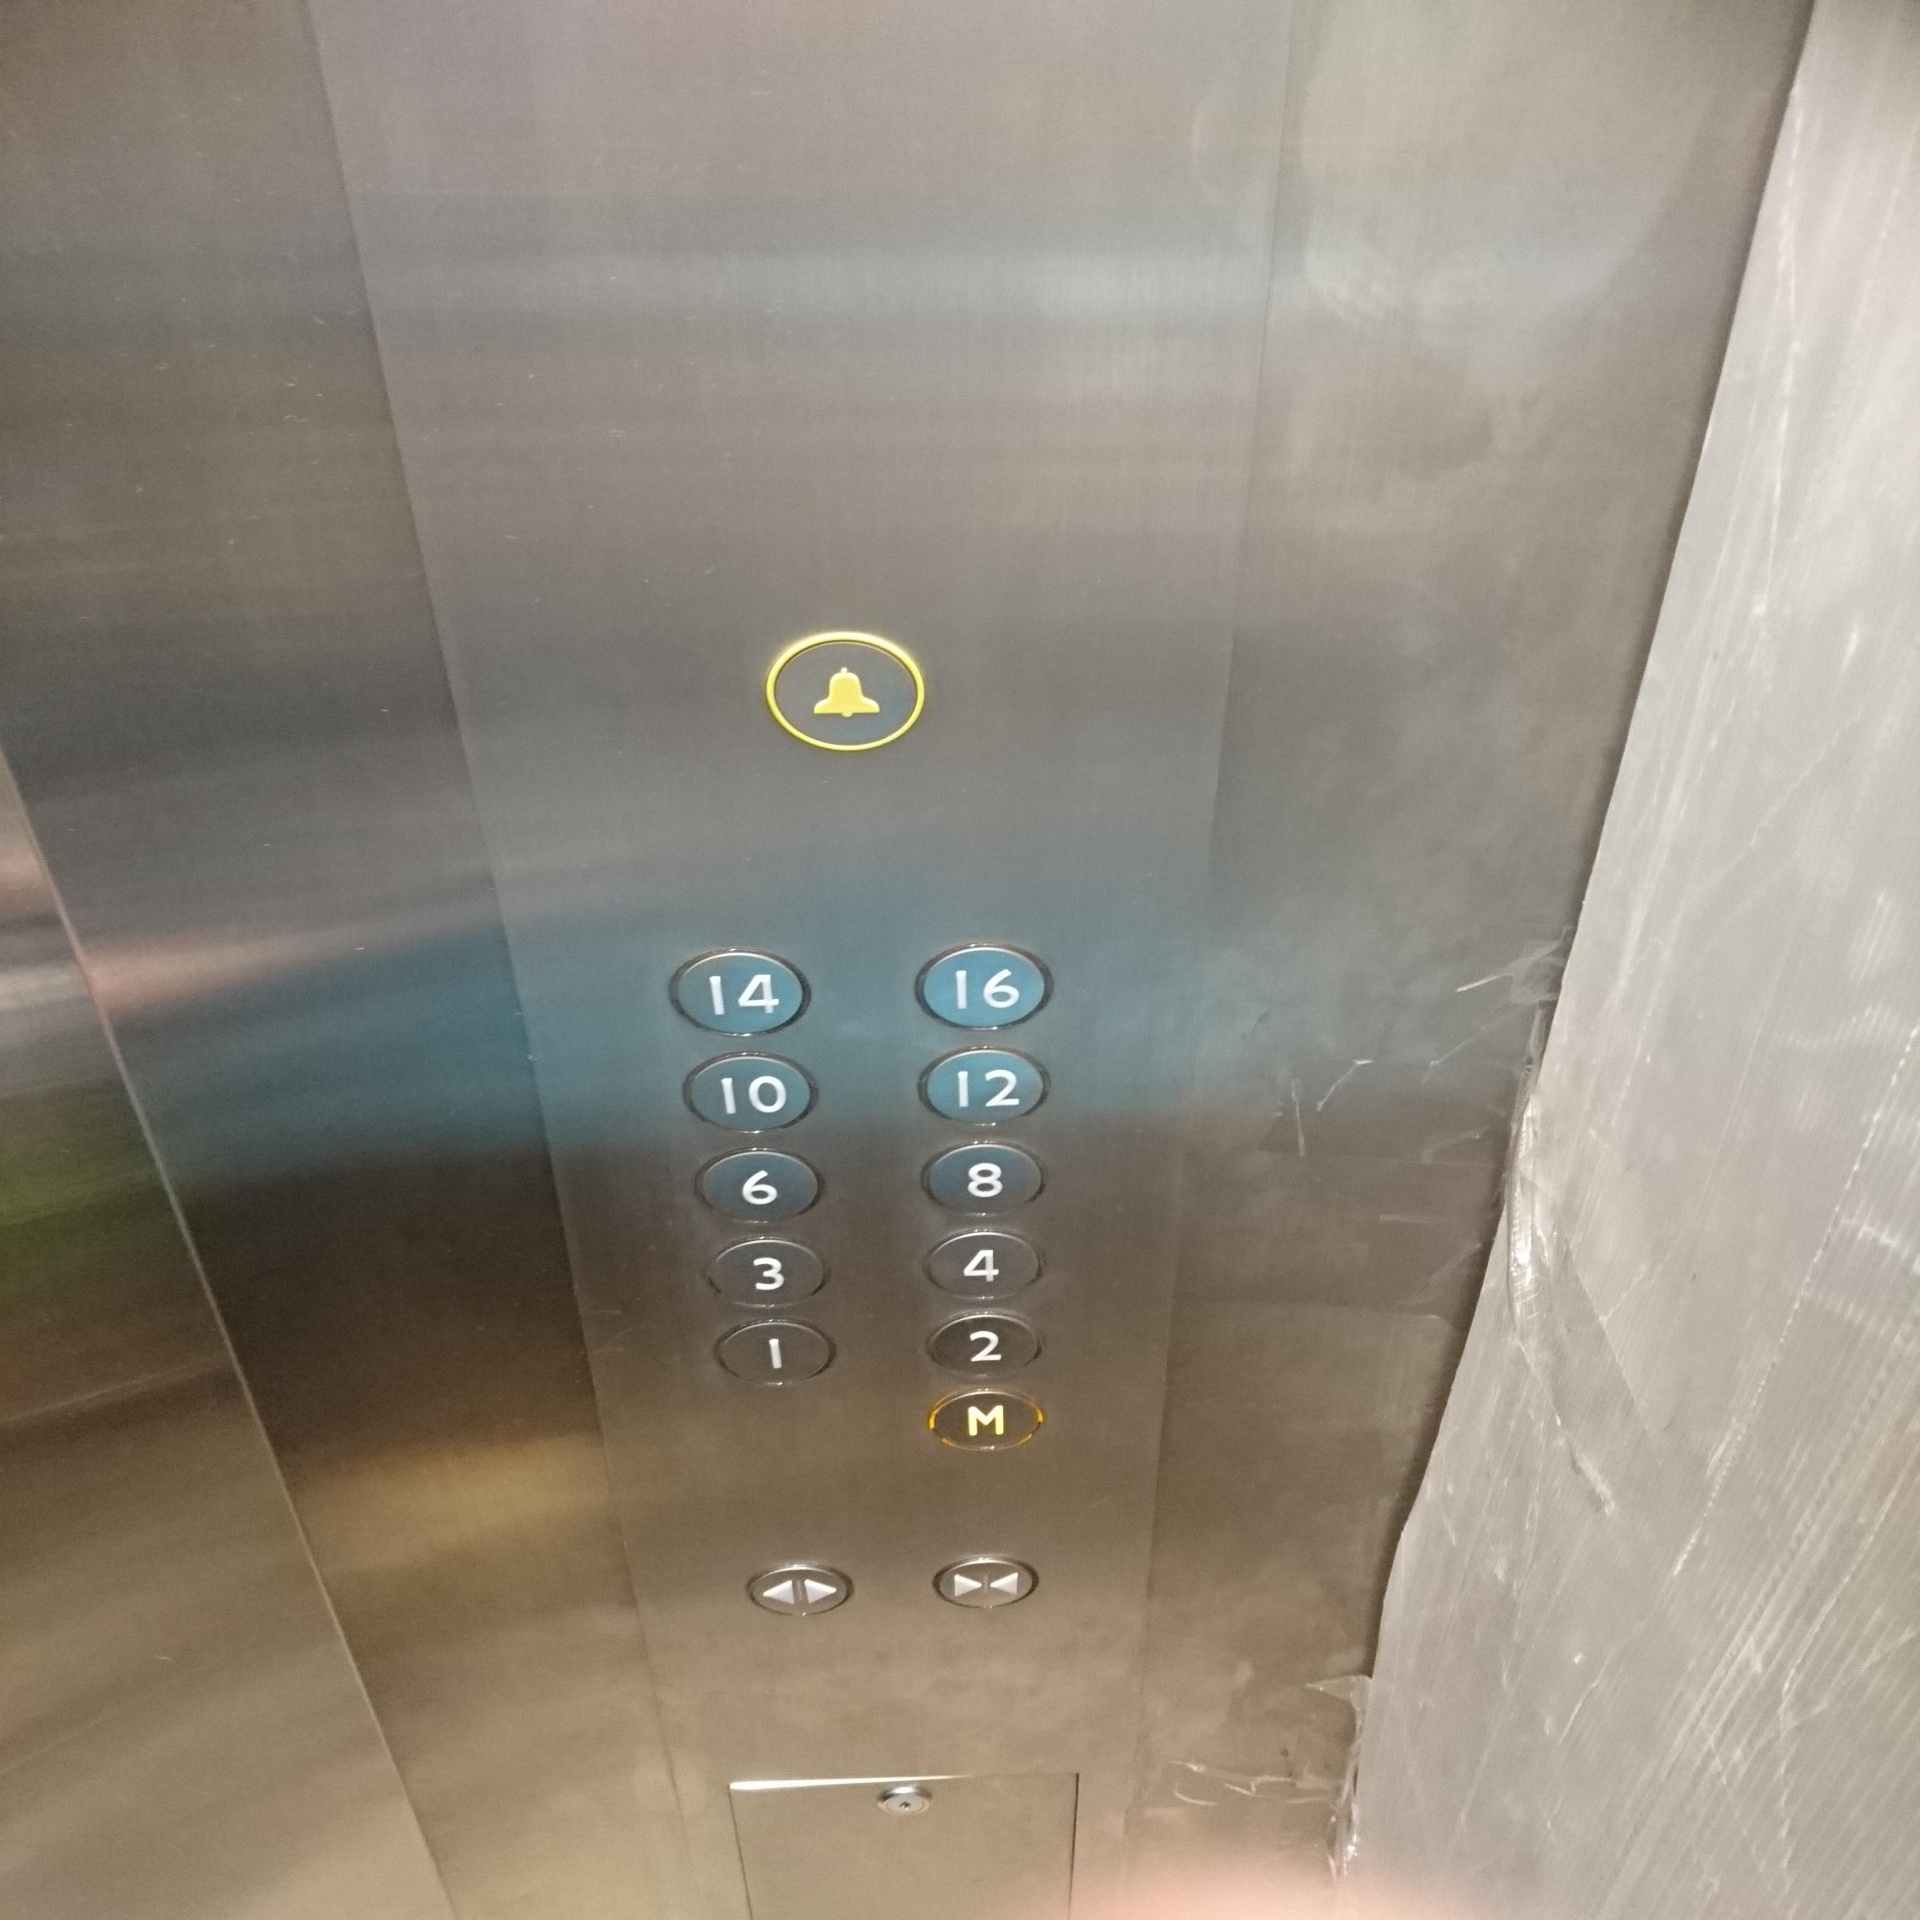1: (712, 1317, 837, 1387)
10: (680, 1050, 819, 1134)
12: (918, 1046, 1053, 1125)
14: (666, 946, 812, 1037)
16: (913, 942, 1057, 1032)
2: (923, 1308, 1044, 1380)
3: (703, 1234, 832, 1310)
4: (920, 1225, 1046, 1301)
6: (693, 1145, 826, 1224)
8: (920, 1139, 1051, 1218)
M: (928, 1385, 1046, 1452)
alarm: (761, 629, 927, 754)
close: (932, 1553, 1041, 1609)
keyhole: (874, 1785, 935, 1820)
open: (745, 1561, 855, 1619)
